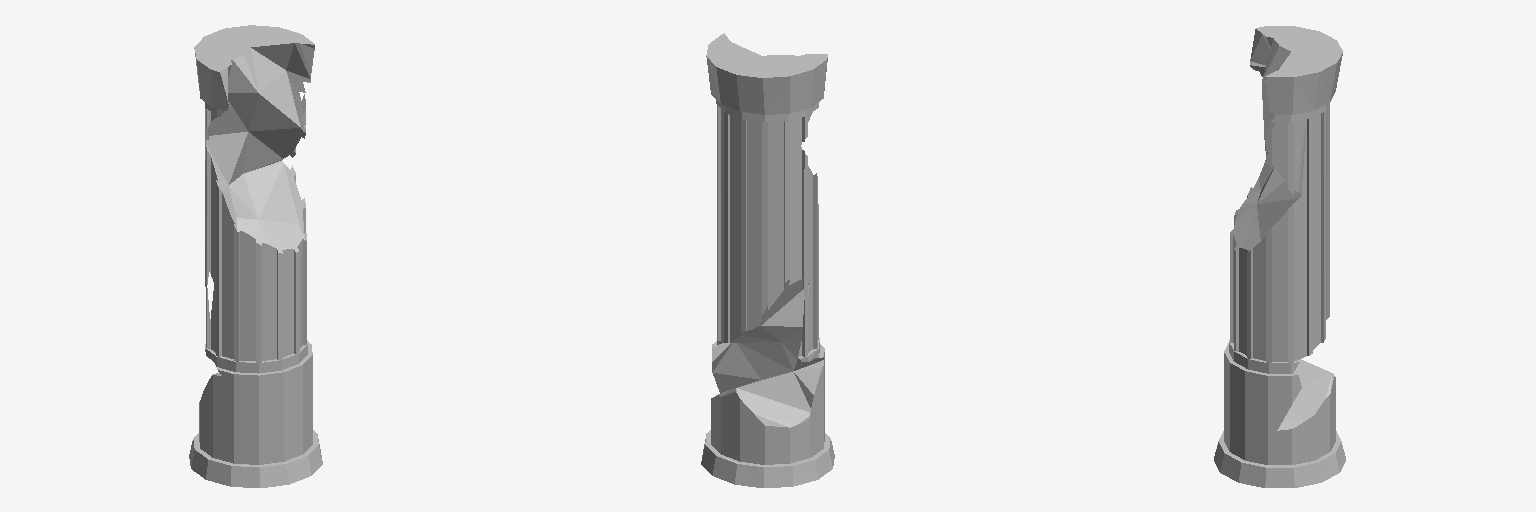
The model's file is kolumna_test.obj.
The picture shows the model from 3 angles: view 1: azimuth 30°, elevation 25°; view 2: azimuth 150°, elevation 25°; view 3: azimuth 270°, elevation 25°; orthographic projection.
Visible parts, largest first — view 1: Cylinder.005; view 2: Cylinder.005; view 3: Cylinder.005.
Part boxes in pixels (x1,y1,x2,y2): Cylinder.005: (189,25,322,487); Cylinder.005: (701,33,834,487); Cylinder.005: (1214,26,1345,487).
Bounding box in the file's own units: 6.2 × 21 × 6.2.